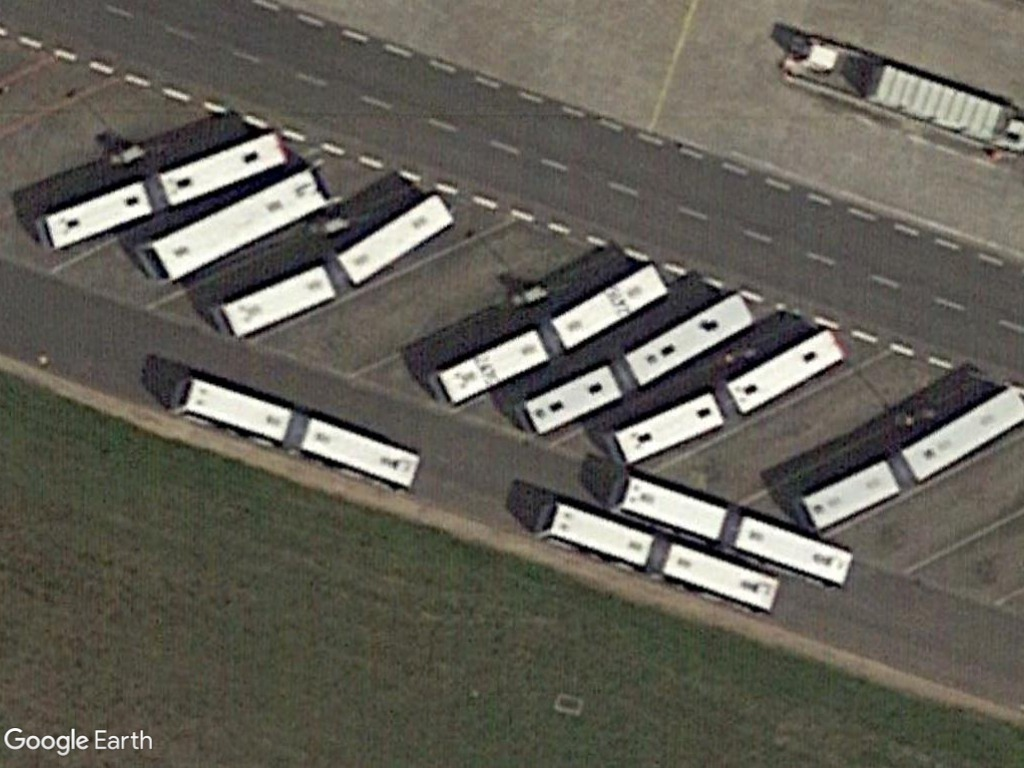bus: (137, 168, 331, 285), (894, 383, 1023, 488), (285, 402, 427, 494), (721, 327, 857, 420), (147, 120, 289, 209), (622, 294, 755, 389), (337, 191, 459, 294), (549, 263, 674, 353), (787, 450, 904, 541), (659, 538, 788, 620), (604, 469, 734, 550), (521, 498, 661, 573), (30, 174, 155, 257), (610, 388, 728, 474), (209, 264, 340, 341), (170, 371, 298, 449), (430, 324, 550, 407), (731, 510, 855, 590), (512, 364, 626, 439)
